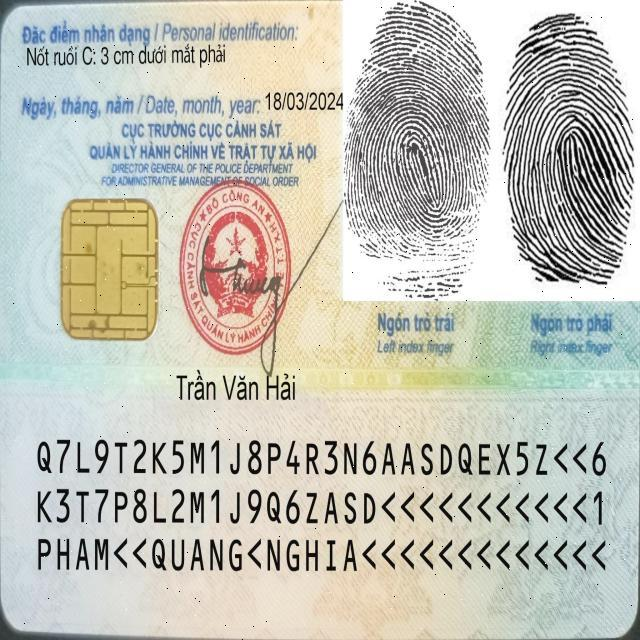features: (17, 40, 252, 70)
finger_print: (494, 0, 640, 362), (340, 1, 487, 360)
issue_date: (264, 88, 344, 115)
